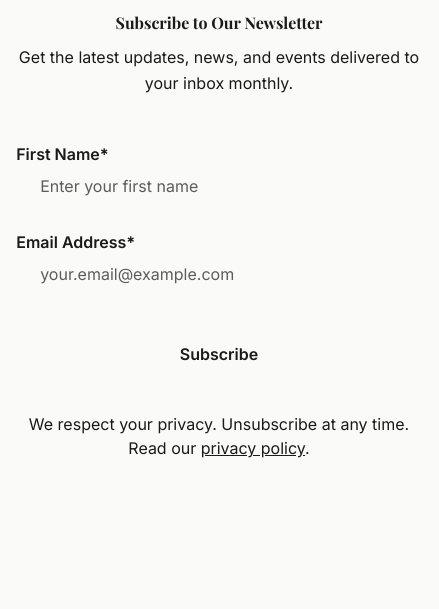
NewsletterSignup › Validation › shows error when first name is empty
Click the button "Subscribe" at (219, 354), box [16,320,422,388]
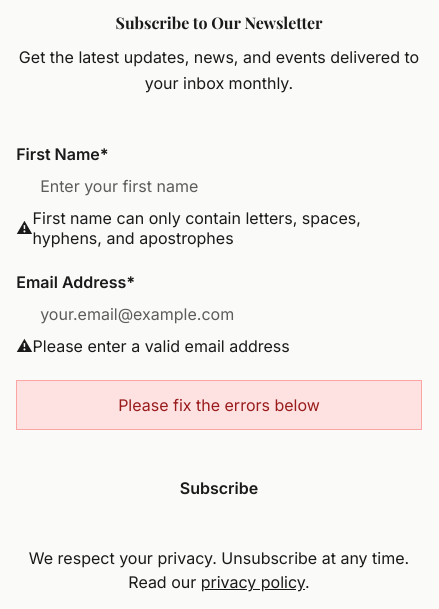
Expected: the text "First name can only contain letters, spaces, hyphens, and apostrophes" is shown, [33,208,361,248]
